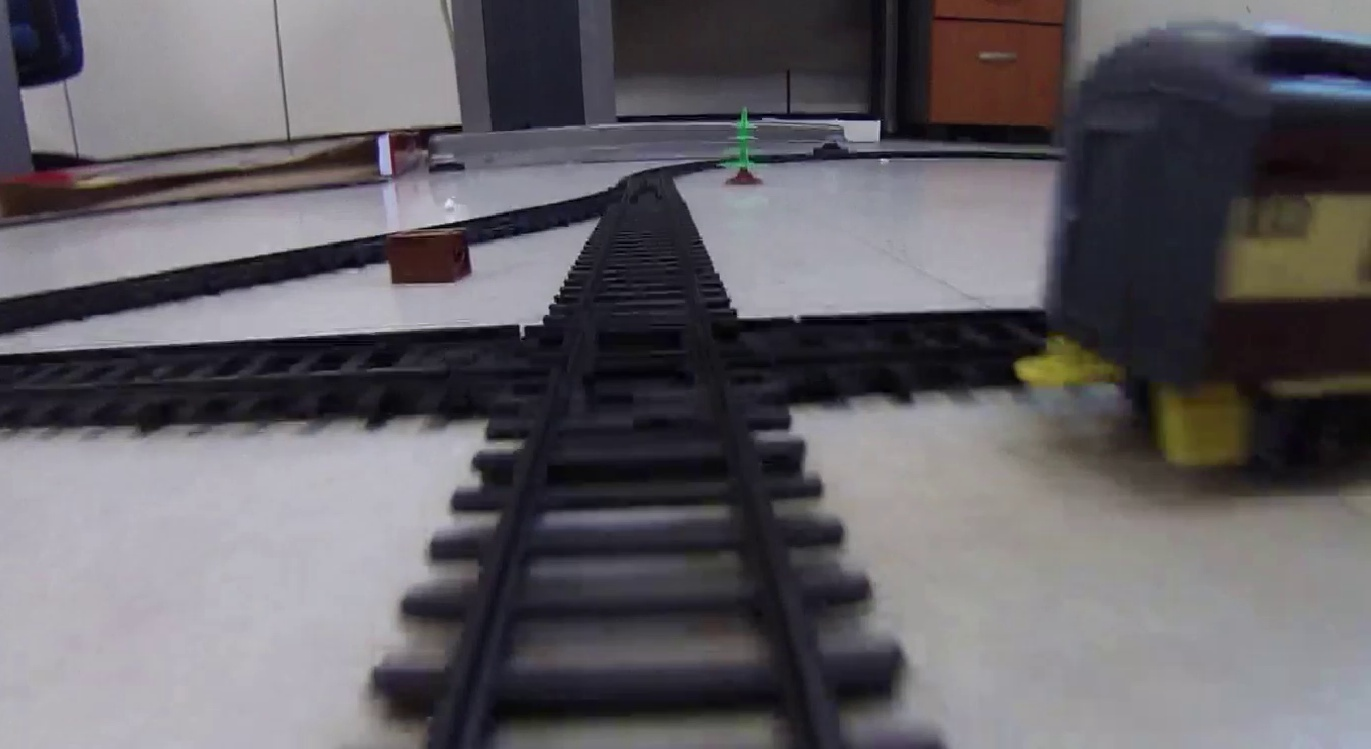box: (383, 230, 473, 284)
tree: (712, 106, 767, 184)
